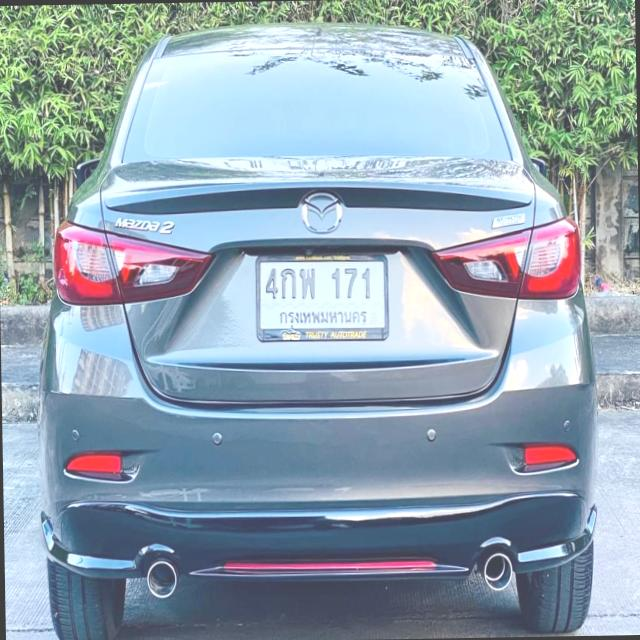license_plate: (253, 250, 390, 344)
